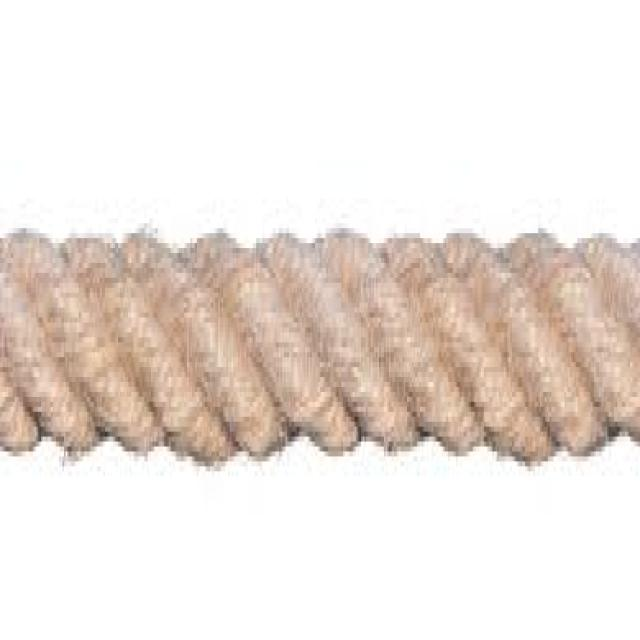Rope: (0, 186, 640, 552)
